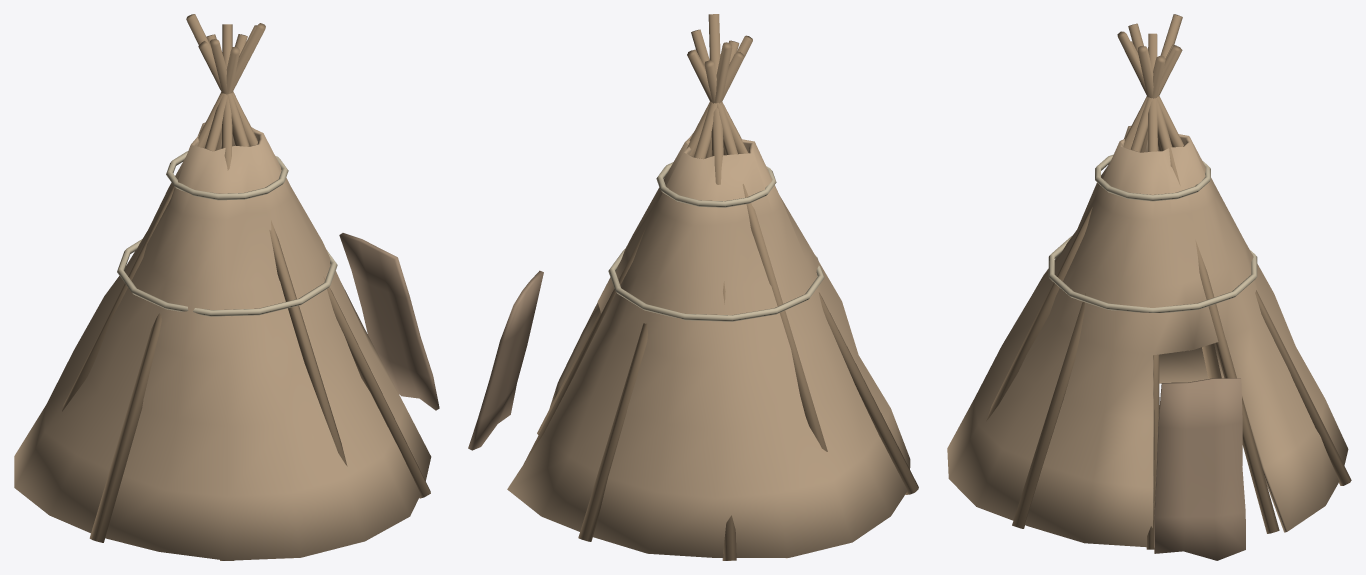
The model's file is camp_hut.glb.
The picture shows the model from 3 angles, left to right: view 1: azimuth 30°, elevation 25°; view 2: azimuth 150°, elevation 25°; view 3: azimuth 270°, elevation 25°; orthographic projection. The views are drawn at different scales.
Parts seen in each view (by area): view 1: cover, door, p.005, p.007, p.008, band, p.004, band.001, p.006, p.003, p.001; view 2: cover, door, p.002, p.004, p.005, band, p.003, p.001, band.001, p, p.008; view 3: cover, door, p.001, p.008, p.002, p.007, band, p, band.001, p.004, p.003.
Part boxes in pixels (<box>): cover: <box>14,122,431,560</box>; door: <box>339,233,439,410</box>; p.005: <box>89,34,247,542</box>; p.007: <box>206,34,347,466</box>; p.008: <box>186,14,430,498</box>; band: <box>117,239,337,316</box>; p.004: <box>62,25,257,411</box>; band.001: <box>166,151,288,200</box>; p.006: <box>220,24,233,560</box>; p.003: <box>142,23,265,240</box>; p.001: <box>210,38,238,145</box>; cover: <box>507,133,910,558</box>; door: <box>468,270,543,450</box>; p.002: <box>578,40,739,541</box>; p.004: <box>691,29,827,451</box>; p.005: <box>687,49,918,494</box>; band: <box>608,249,824,321</box>; p.003: <box>708,14,736,560</box>; p.001: <box>524,35,752,463</box>; band.001: <box>656,162,776,207</box>; p: <box>537,52,744,434</box>; p.008: <box>705,42,732,158</box>; cover: <box>947,125,1348,547</box>; door: <box>1154,378,1245,560</box>; p.001: <box>1128,23,1279,533</box>; p.008: <box>1012,14,1182,528</box>; p.002: <box>1130,41,1351,485</box>; p.007: <box>986,44,1176,421</box>; band: <box>1048,236,1257,312</box>; p: <box>1146,33,1159,549</box>; band.001: <box>1095,154,1210,201</box>; p.004: <box>1137,46,1221,378</box>; p.003: <box>1117,31,1172,147</box>.
Bounding box in the file's own units: 2.78 × 3.12 × 2.57.
